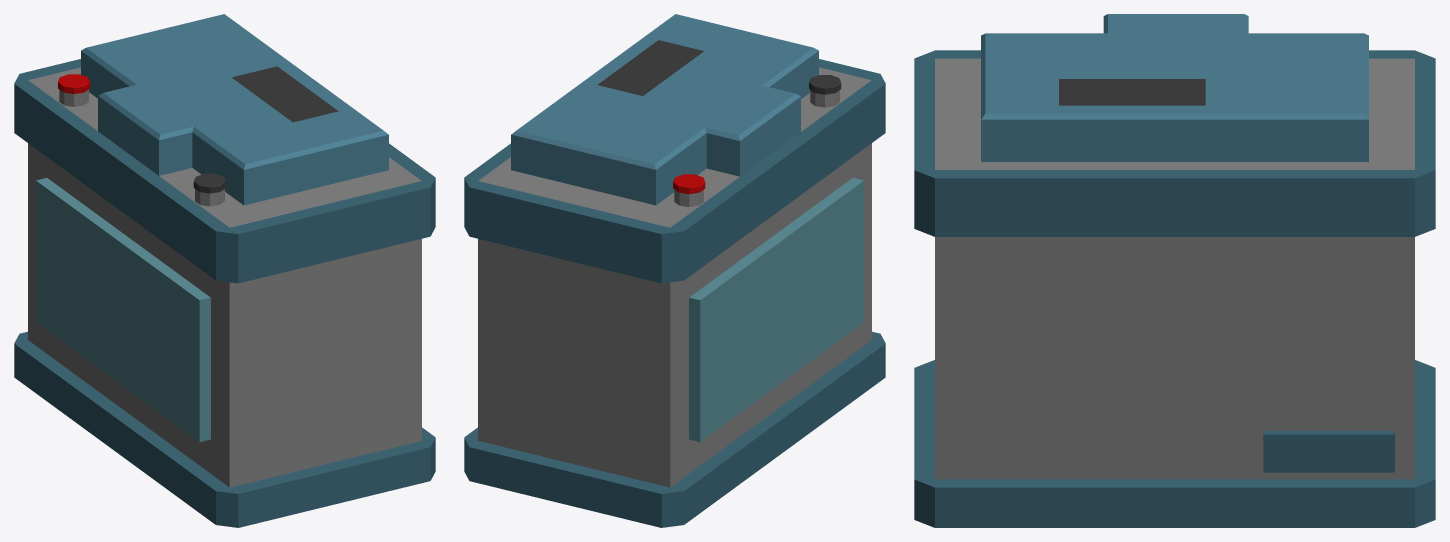
Rendered from model_battery.fbx.
3 renders of one model, left to right at view 1: azimuth 30°, elevation 25°; view 2: azimuth 150°, elevation 25°; view 3: azimuth 270°, elevation 25°, orthographic. The views are drawn at different scales.
Parts seen in each view (by area): view 1: model_battery; view 2: model_battery; view 3: model_battery.
Part boxes in pixels (box(x1,y1,x2,y2)): model_battery: box(14, 14, 435, 527); model_battery: box(464, 14, 885, 527); model_battery: box(914, 14, 1435, 527).
Size of the model in its own units: 33.75 by 48.79 by 58.2.
Materials: 1 (1 with a texture image).
